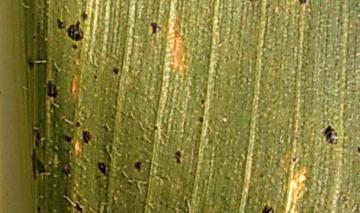tarspot: (29, 147, 45, 181), (65, 20, 85, 43), (323, 124, 339, 146), (45, 80, 59, 100), (31, 127, 42, 146), (171, 149, 183, 165), (81, 129, 92, 145), (60, 163, 72, 177), (149, 21, 160, 36), (96, 161, 107, 176), (26, 54, 36, 70), (259, 203, 275, 213), (54, 16, 64, 31), (73, 201, 84, 213), (132, 160, 142, 172), (79, 10, 89, 21), (62, 134, 74, 143), (111, 67, 120, 75), (291, 155, 299, 164), (71, 42, 78, 52), (297, 1, 309, 6), (35, 205, 42, 213), (197, 116, 204, 124), (199, 98, 206, 106), (74, 120, 81, 128), (92, 74, 99, 81), (30, 34, 37, 40), (356, 146, 360, 154), (30, 11, 35, 17), (65, 147, 70, 153), (41, 6, 46, 11), (42, 1, 47, 5)
